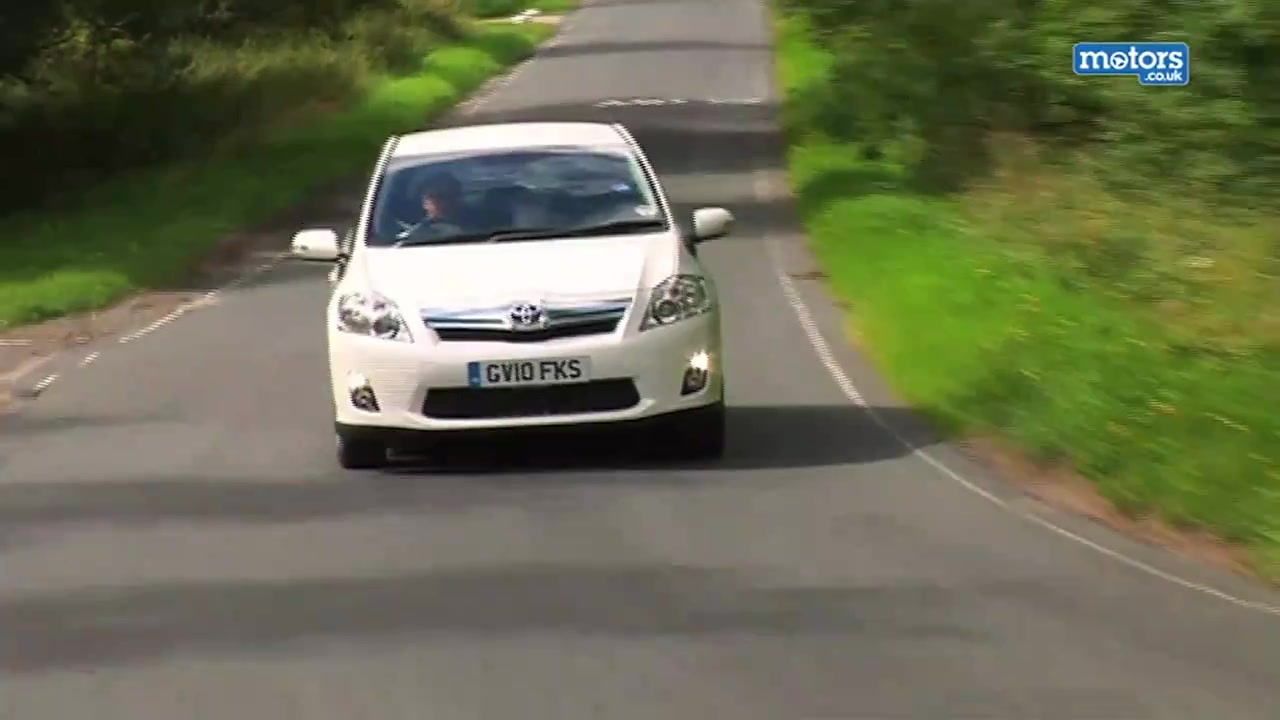car: (291, 119, 740, 470)
